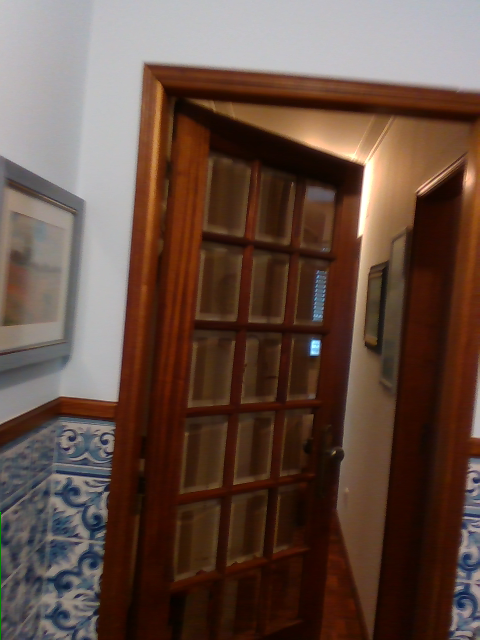semi: (96, 63, 479, 636)
